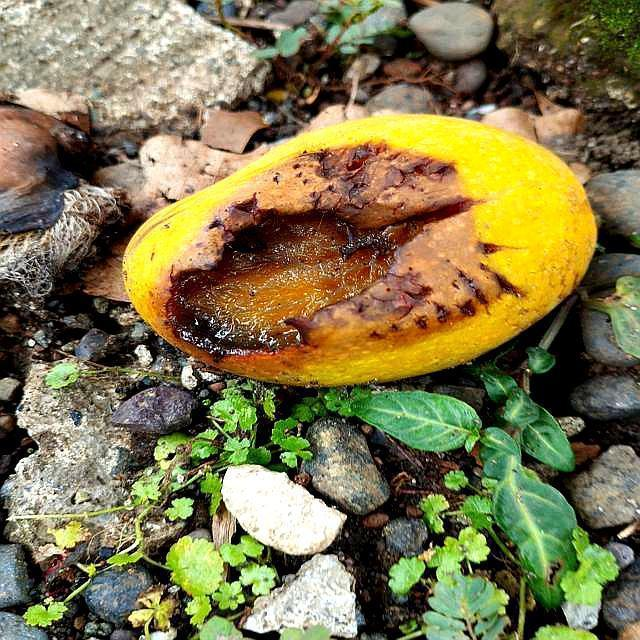Biodegradable: (121, 117, 599, 391)
